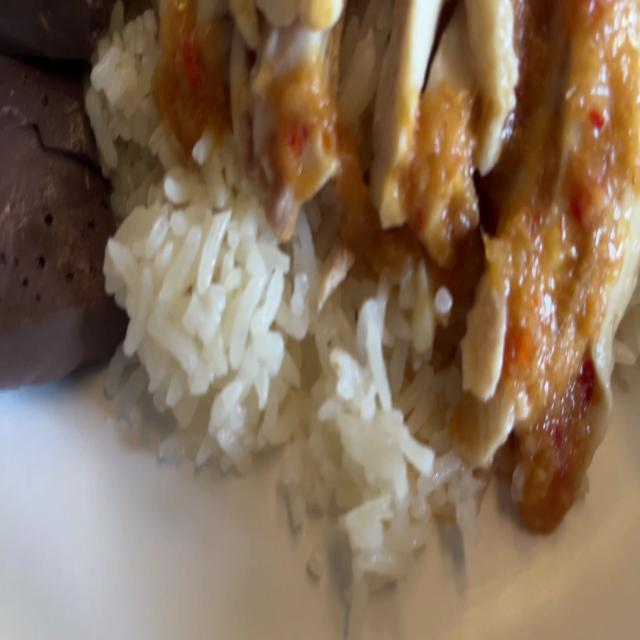boiled_chicken: (162, 0, 640, 433)
boiled_chicken_blood_jelly: (0, 47, 125, 383), (0, 0, 120, 67)
chicken_rice: (0, 0, 640, 589)
